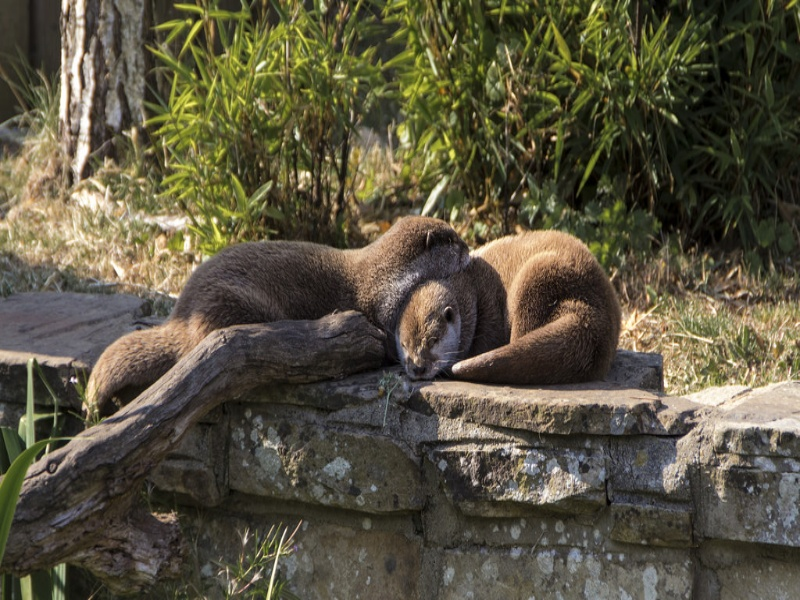minkish: (78, 214, 472, 417), (390, 222, 626, 393)
